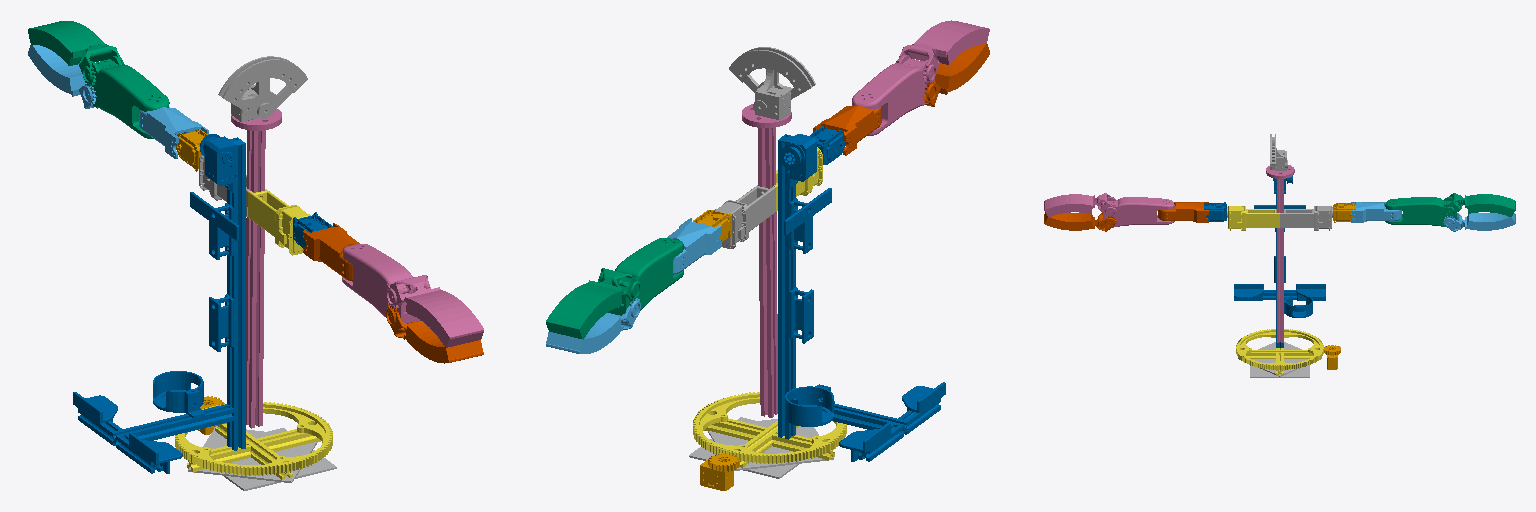
--- Facts derived from the render (not from the file) ---
3 views of the same robot in one strip: view 1: azimuth 30°, elevation 25°; view 2: azimuth 150°, elevation 25°; view 3: azimuth 270°, elevation 25° (orthographic).
Model sobit_mini with 55 links and 54 joints (15 revolute, 2 continuous, 37 fixed), rooted at base_footprint, posed all joints at 0.
Visible links, largest first — view 1: body_back_pole_link, body_big_gear_link, body_front_pole_link, right_hand_right_finger_link, head_pan_link, left_elbow_roll_link, right_elbow_roll_link, left_hand_right_finger_link, right_hand_left_finger_link, right_shoulder_fixed_link, left_hand_left_finger_link, right_shoulder_flex_link (+6 smaller); view 2: body_back_pole_link, body_front_pole_link, body_big_gear_link, head_pan_link, left_hand_right_finger_link, right_elbow_roll_link, left_elbow_roll_link, right_hand_right_finger_link, left_shoulder_fixed_link, left_hand_left_finger_link, right_hand_left_finger_link, left_shoulder_flex_link (+7 smaller); view 3: body_back_pole_link, body_big_gear_link, left_elbow_roll_link, right_elbow_roll_link, body_front_pole_link, left_hand_right_finger_link, right_hand_right_finger_link, right_shoulder_fixed_link, left_shoulder_fixed_link, left_hand_left_finger_link, right_hand_left_finger_link, left_shoulder_flex_link (+1 smaller).
Boxes of the visible links, bbox=[...] form: body_back_pole_link: bbox=[73, 134, 245, 473]; body_big_gear_link: bbox=[175, 402, 332, 479]; body_front_pole_link: bbox=[231, 109, 281, 428]; right_hand_right_finger_link: bbox=[386, 275, 483, 347]; head_pan_link: bbox=[218, 56, 307, 121]; left_elbow_roll_link: bbox=[85, 56, 169, 138]; right_elbow_roll_link: bbox=[342, 244, 420, 323]; left_hand_right_finger_link: bbox=[28, 21, 123, 85]; right_hand_left_finger_link: bbox=[386, 305, 483, 363]; right_shoulder_fixed_link: bbox=[248, 189, 310, 255]; left_hand_left_finger_link: bbox=[28, 45, 96, 108]; right_shoulder_flex_link: bbox=[303, 223, 359, 281]; body_back_pole_link: bbox=[778, 134, 945, 461]; body_front_pole_link: bbox=[742, 104, 791, 417]; body_big_gear_link: bbox=[693, 392, 846, 467]; head_pan_link: bbox=[729, 47, 815, 119]; left_hand_right_finger_link: bbox=[546, 268, 640, 339]; right_elbow_roll_link: bbox=[852, 55, 934, 135]; left_elbow_roll_link: bbox=[608, 238, 683, 315]; right_hand_right_finger_link: bbox=[895, 20, 989, 83]; left_shoulder_fixed_link: bbox=[714, 185, 775, 248]; left_hand_left_finger_link: bbox=[546, 298, 640, 353]; right_hand_left_finger_link: bbox=[923, 43, 989, 106]; left_shoulder_flex_link: bbox=[667, 218, 721, 274]; body_back_pole_link: bbox=[1234, 176, 1325, 347]; body_big_gear_link: bbox=[1236, 329, 1323, 375]; left_elbow_roll_link: bbox=[1385, 197, 1456, 227]; right_elbow_roll_link: bbox=[1103, 197, 1174, 226]; body_front_pole_link: bbox=[1266, 165, 1294, 342]; left_hand_right_finger_link: bbox=[1443, 193, 1515, 216]; right_hand_right_finger_link: bbox=[1044, 193, 1116, 217]; right_shoulder_fixed_link: bbox=[1227, 206, 1279, 230]; left_shoulder_fixed_link: bbox=[1280, 206, 1332, 230]; left_hand_left_finger_link: bbox=[1443, 212, 1515, 231]; right_hand_left_finger_link: bbox=[1044, 212, 1116, 231]; left_shoulder_flex_link: bbox=[1351, 202, 1401, 222].
Size in the robot's own frame: 0.358 by 1.26 by 0.6751 metres.
17 mesh visuals loaded from 21 distinct referenced files (12 Collada DAE); not drawn: 18 (reference not matched to a file when rendering).

The robot description file, URDF, robot "sobit_mini":
<?xml version="1.0" ?>
<!-- =================================================================================== -->
<!-- |    This document was autogenerated by xacro from sobit_mini.urdf.xacro          | -->
<!-- |    EDITING THIS FILE BY HAND IS NOT RECOMMENDED                                 | -->
<!-- =================================================================================== -->
<robot name="sobit_mini" xmlns:controller="http://playerstage.sourceforge.net/gazebo/xmlschema/#controller" xmlns:interface="http://playerstage.sourceforge.net/gazebo/xmlschema/#interface" xmlns:sensor="http://playerstage.sourceforge.net/gazebo/xmlschema/#sensor" xmlns:xacro="http://www.ros.org/wiki.xacro">
  <material name="wheel">
    <color rgba="0.2 0.2 0.2 1.0"/>
  </material>
  <material name="black">
    <color rgba="0.1 0.1 0.1 1.0"/>
  </material>
  <material name="white">
    <color rgba="1.0 1.0 1.0 1.0"/>
  </material>
  <material name="silver">
    <color rgba="0.741 0.752 0.760 1.0"/>
  </material>
  <material name="red">
    <color rgba="1.0 0.0 0.0 1.0"/>
  </material>
  <material name="green">
    <color rgba="0.0 1.0 0.0 1.0"/>
  </material>
  <material name="blue">
    <color rgba="0.0 0.0 1.0 1.0"/>
  </material>
  <!-- 
    These properties must be observed by any machine
    that wants to be defined as a turtlebot. Refer
    to the REP for more details.
    
    http://www.ros.org/reps/rep-0119.html
   -->
  <link name="base_footprint"/>
  <!--
       Base link is set at the bottom of the base mould.
       This is done to be compatible with the way base link
       was configured for turtlebot 1. Refer to
       https://github.com/turtlebot/turtlebot/issues/40
       To put the base link at the more oft used wheel
       axis, set the z-distance from the base_footprint
       to 0.352.
      -->
  <joint name="base_joint" type="fixed">
    <origin rpy="0 0 0" xyz="0 0 0.0102"/>
    <parent link="base_footprint"/>
    <child link="base_link"/>
  </joint>
  <link name="base_link">
    <visual>
      <geometry>
        <!-- new mesh -->
        <mesh filename="package://kobuki_description/meshes/main_body.dae"/>
      </geometry>
      <origin rpy="0 0 0" xyz="0.001 0 0.05199"/>
    </visual>
    <collision name="base">
      <geometry>
        <cylinder length="0.10938" radius="0.178"/>
      </geometry>
      <origin rpy="0 0 0" xyz="0.0 0 0.05949"/>
    </collision>
    <inertial>
      <!-- COM experimentally determined -->
      <origin xyz="0.01 0 0"/>
      <mass value="2.4"/>
      <!-- 2.4/2.6 kg for small/big battery pack -->
      <!-- Kobuki's inertia tensor is approximated by a cylinder with homogeneous mass distribution
             More details: http://en.wikipedia.org/wiki/List_of_moment_of_inertia_tensors
             m = 2.4 kg; h = 0.09 m; r = 0.175 m
             ixx = 1/12 * m * (3 * r^2 + h^2)
             iyy = 1/12 * m * (3 * r^2 + h^2)
             izz = 1/2 * m * r^2
          -->
      <inertia ixx="0.019995" ixy="0.0" ixz="0.0" iyy="0.019995" iyz="0.0" izz="0.03675"/>
    </inertial>
  </link>
  <joint name="wheel_left_joint" type="continuous">
    <parent link="base_link"/>
    <child link="wheel_left_link"/>
    <origin rpy="-1.57079632679 0 0" xyz="0.00 0.115 0.0250"/>
    <axis xyz="0 0 1"/>
  </joint>
  <link name="wheel_left_link">
    <visual>
      <geometry>
        <mesh filename="package://kobuki_description/meshes/wheel.dae"/>
      </geometry>
      <origin rpy="0 0 0" xyz="0 0 0"/>
    </visual>
    <collision>
      <geometry>
        <cylinder length="0.0206" radius="0.0352"/>
      </geometry>
      <origin rpy="0 0 0" xyz="0 0 0"/>
    </collision>
    <inertial>
      <mass value="0.01"/>
      <origin xyz="0 0 0"/>
      <inertia ixx="0.001" ixy="0.0" ixz="0.0" iyy="0.001" iyz="0.0" izz="0.001"/>
    </inertial>
  </link>
  <joint name="wheel_right_joint" type="continuous">
    <parent link="base_link"/>
    <child link="wheel_right_link"/>
    <origin rpy="-1.57079632679 0 0" xyz="0.00 -0.115 0.0250"/>
    <axis xyz="0 0 1"/>
  </joint>
  <link name="wheel_right_link">
    <visual>
      <geometry>
        <mesh filename="package://kobuki_description/meshes/wheel.dae"/>
      </geometry>
      <origin rpy="0 0 0" xyz="0 0 0"/>
    </visual>
    <collision>
      <geometry>
        <cylinder length="0.0206" radius="0.0350"/>
      </geometry>
      <origin rpy="0 0 0" xyz="0 0 0"/>
    </collision>
    <inertial>
      <mass value="0.01"/>
      <origin xyz="0 0 0"/>
      <inertia ixx="0.001" ixy="0.0" ixz="0.0" iyy="0.001" iyz="0.0" izz="0.001"/>
    </inertial>
  </link>
  <joint name="caster_front_joint" type="fixed">
    <parent link="base_link"/>
    <child link="caster_front_link"/>
    <origin rpy="-1.57079632679 0 0" xyz="0.115 0.0 0.007"/>
  </joint>
  <link name="caster_front_link">
    <collision>
      <geometry>
        <cylinder length="0.0176" radius="0.017"/>
      </geometry>
      <origin rpy="0 0 0" xyz="0 0 0"/>
    </collision>
    <inertial>
      <mass value="0.01"/>
      <origin xyz="0 0 0"/>
      <inertia ixx="0.001" ixy="0.0" ixz="0.0" iyy="0.001" iyz="0.0" izz="0.001"/>
    </inertial>
  </link>
  <joint name="caster_back_joint" type="fixed">
    <parent link="base_link"/>
    <child link="caster_back_link"/>
    <origin rpy="-1.57079632679 0 0" xyz="-0.135 0.0 0.009"/>
  </joint>
  <link name="caster_back_link">
    <collision>
      <geometry>
        <cylinder length="0.0176" radius="0.017"/>
      </geometry>
      <origin rpy="0 0 0" xyz="0 0 0"/>
    </collision>
    <inertial>
      <mass value="0.01"/>
      <origin xyz="0 0 0"/>
      <inertia ixx="0.001" ixy="0.0" ixz="0.0" iyy="0.001" iyz="0.0" izz="0.001"/>
    </inertial>
  </link>
  <!-- Kobuki's sensors -->
  <joint name="gyro_joint" type="fixed">
    <axis xyz="0 1 0"/>
    <origin rpy="0 0 0" xyz="0.056 0.062 0.0202"/>
    <parent link="base_link"/>
    <child link="gyro_link"/>
  </joint>
  <link name="gyro_link">
    <inertial>
      <mass value="0.001"/>
      <origin rpy="0 0 0" xyz="0 0 0"/>
      <inertia ixx="0.0001" ixy="0" ixz="0" iyy="0.000001" iyz="0" izz="0.0001"/>
    </inertial>
  </link>
  <joint name="cliff_sensor_left_joint" type="fixed">
    <origin rpy="0 1.57079632679 0" xyz="0.08734 0.13601 0.0214"/>
    <parent link="base_link"/>
    <child link="cliff_sensor_left_link"/>
  </joint>
  <link name="cliff_sensor_left_link">
    <inertial>
      <mass value="0.0001"/>
      <origin xyz="0 0 0"/>
      <inertia ixx="0.0001" ixy="0.0" ixz="0.0" iyy="0.0001" iyz="0.0" izz="0.0001"/>
    </inertial>
  </link>
  <joint name="cliff_sensor_right_joint" type="fixed">
    <origin rpy="0 1.57079632679 0" xyz="0.085 -0.13601 0.0214"/>
    <parent link="base_link"/>
    <child link="cliff_sensor_right_link"/>
  </joint>
  <link name="cliff_sensor_right_link">
    <inertial>
      <mass value="0.0001"/>
      <origin xyz="0 0 0"/>
      <inertia ixx="0.0001" ixy="0.0" ixz="0.0" iyy="0.0001" iyz="0.0" izz="0.0001"/>
    </inertial>
  </link>
  <joint name="cliff_sensor_front_joint" type="fixed">
    <origin rpy="0 1.57079632679 0" xyz="0.156 0.00 0.0214"/>
    <parent link="base_link"/>
    <child link="cliff_sensor_front_link"/>
  </joint>
  <link name="cliff_sensor_front_link">
    <inertial>
      <mass value="0.0001"/>
      <origin xyz="0 0 0"/>
      <inertia ixx="0.0001" ixy="0.0" ixz="0.0" iyy="0.0001" iyz="0.0" izz="0.0001"/>
    </inertial>
  </link>
  <joint name="pole_bottom_0_joint" type="fixed">
    <origin rpy="0 0 0" xyz="0.12 0.082 0.1028"/>
    <parent link="base_link"/>
    <child link="pole_bottom_0_link"/>
  </joint>
  <link name="pole_bottom_0_link">
    <visual>
      <origin rpy="0 0 0" xyz="0 0 0"/>
      <geometry>
        <mesh filename="package://turtlebot_description/meshes/stacks/hexagons/pole_bottom.dae"/>
      </geometry>
    </visual>
    <collision>
      <origin rpy="0 0 0" xyz="0 0 0"/>
      <geometry>
        <cylinder length="0.0492" radius="0.006"/>
      </geometry>
    </collision>
    <inertial>
      <mass value="0.008"/>
      <origin rpy="0 0 0" xyz="0 0 0"/>
      <inertia ixx="0.000001686" ixy="0.0" ixz="0.0" iyy="0.000001686" iyz="0.0" izz="0.000000144"/>
    </inertial>
  </link>
  <joint name="pole_bottom_1_joint" type="fixed">
    <origin rpy="0 0 0" xyz="0.055 0.12 0.1028"/>
    <parent link="base_link"/>
    <child link="pole_bottom_1_link"/>
  </joint>
  <link name="pole_bottom_1_link">
    <visual>
      <origin rpy="0 0 0" xyz="0 0 0"/>
      <geometry>
        <mesh filename="package://turtlebot_description/meshes/stacks/hexagons/pole_bottom.dae"/>
      </geometry>
    </visual>
    <collision>
      <origin rpy="0 0 0" xyz="0 0 0"/>
      <geometry>
        <cylinder length="0.0492" radius="0.006"/>
      </geometry>
    </collision>
    <inertial>
      <mass value="0.008"/>
      <origin rpy="0 0 0" xyz="0 0 0"/>
      <inertia ixx="0.000001686" ixy="0.0" ixz="0.0" iyy="0.000001686" iyz="0.0" izz="0.000000144"/>
    </inertial>
  </link>
  <joint name="pole_bottom_2_joint" type="fixed">
    <origin rpy="0 0 0" xyz="-0.055 0.12 0.1028"/>
    <parent link="base_link"/>
    <child link="pole_bottom_2_link"/>
  </joint>
  <link name="pole_bottom_2_link">
    <visual>
      <origin rpy="0 0 0" xyz="0 0 0"/>
      <geometry>
        <mesh filename="package://turtlebot_description/meshes/stacks/hexagons/pole_bottom.dae"/>
      </geometry>
    </visual>
    <collision>
      <origin rpy="0 0 0" xyz="0 0 0"/>
      <geometry>
        <cylinder length="0.0492" radius="0.006"/>
      </geometry>
    </collision>
    <inertial>
      <mass value="0.008"/>
      <origin rpy="0 0 0" xyz="0 0 0"/>
      <inertia ixx="0.000001686" ixy="0.0" ixz="0.0" iyy="0.000001686" iyz="0.0" izz="0.000000144"/>
    </inertial>
  </link>
  <joint name="pole_bottom_3_joint" type="fixed">
    <origin rpy="0 0 0" xyz="0.12 -0.082 0.1028"/>
    <parent link="base_link"/>
    <child link="pole_bottom_3_link"/>
  </joint>
  <link name="pole_bottom_3_link">
    <visual>
      <origin rpy="0 0 0" xyz="0 0 0"/>
      <geometry>
        <mesh filename="package://turtlebot_description/meshes/stacks/hexagons/pole_bottom.dae"/>
      </geometry>
    </visual>
    <collision>
      <origin rpy="0 0 0" xyz="0 0 0"/>
      <geometry>
        <cylinder length="0.0492" radius="0.006"/>
      </geometry>
    </collision>
    <inertial>
      <mass value="0.008"/>
      <origin rpy="0 0 0" xyz="0 0 0"/>
      <inertia ixx="0.000001686" ixy="0.0" ixz="0.0" iyy="0.000001686" iyz="0.0" izz="0.000000144"/>
    </inertial>
  </link>
  <joint name="pole_bottom_4_joint" type="fixed">
    <origin rpy="0 0 0" xyz="0.055 -0.12 0.1028"/>
    <parent link="base_link"/>
    <child link="pole_bottom_4_link"/>
  </joint>
  <link name="pole_bottom_4_link">
    <visual>
      <origin rpy="0 0 0" xyz="0 0 0"/>
      <geometry>
        <mesh filename="package://turtlebot_description/meshes/stacks/hexagons/pole_bottom.dae"/>
      </geometry>
    </visual>
    <collision>
      <origin rpy="0 0 0" xyz="0 0 0"/>
      <geometry>
        <cylinder length="0.0492" radius="0.006"/>
      </geometry>
    </collision>
    <inertial>
      <mass value="0.008"/>
      <origin rpy="0 0 0" xyz="0 0 0"/>
      <inertia ixx="0.000001686" ixy="0.0" ixz="0.0" iyy="0.000001686" iyz="0.0" izz="0.000000144"/>
    </inertial>
  </link>
  <joint name="pole_bottom_5_joint" type="fixed">
    <origin rpy="0 0 0" xyz="-0.055 -0.12 0.1028"/>
    <parent link="base_link"/>
    <child link="pole_bottom_5_link"/>
  </joint>
  <link name="pole_bottom_5_link">
    <visual>
      <origin rpy="0 0 0" xyz="0 0 0"/>
      <geometry>
        <mesh filename="package://turtlebot_description/meshes/stacks/hexagons/pole_bottom.dae"/>
      </geometry>
    </visual>
    <collision>
      <origin rpy="0 0 0" xyz="0 0 0"/>
      <geometry>
        <cylinder length="0.0492" radius="0.006"/>
      </geometry>
    </collision>
    <inertial>
      <mass value="0.008"/>
      <origin rpy="0 0 0" xyz="0 0 0"/>
      <inertia ixx="0.000001686" ixy="0.0" ixz="0.0" iyy="0.000001686" iyz="0.0" izz="0.000000144"/>
    </inertial>
  </link>
  <joint name="plate_bottom_joint" type="fixed">
    <origin rpy="0 0 0" xyz="0.02364 0.0 0.1306"/>
    <parent link="base_link"/>
    <child link="plate_bottom_link"/>
  </joint>
  <link name="plate_bottom_link">
    <visual>
      <origin rpy="0 0 0" xyz="0 0 0"/>
      <geometry>
        <mesh filename="package://turtlebot_description/meshes/stacks/hexagons/plate_bottom.dae"/>
      </geometry>
    </visual>
    <collision>
      <origin rpy="0 0 0" xyz="-0.02364 0 0"/>
      <geometry>
        <cylinder length="0.006" radius="0.170"/>
      </geometry>
    </collision>
    <inertial>
      <mass value="0.520"/>
      <origin xyz="0 0 0"/>
      <inertia ixx="0.003328" ixy="0.0" ixz="0.0" iyy="0.003328" iyz="0.0" izz="0.006656"/>
    </inertial>
  </link>
  <joint name="pole_kinect_0_joint" type="fixed">
    <origin rpy="0 0 0" xyz="0.0381 0.1505 0.1735"/>
    <parent link="base_link"/>
    <child link="pole_kinect_0_link"/>
  </joint>
  <link name="pole_kinect_0_link">
    <visual>
      <origin rpy="0 0 0" xyz="0 0 0.0025"/>
      <geometry>
        <mesh filename="package://turtlebot_description/meshes/sensors/sensor_pole.dae"/>
      </geometry>
    </visual>
    <collision>
      <origin rpy="0 0 0" xyz="0 0 0"/>
      <geometry>
        <cylinder length="0.0936" radius="0.006"/>
      </geometry>
    </collision>
    <inertial>
      <mass value="0.020"/>
      <origin xyz="0 0 0"/>
      <inertia ixx="0.000014782" ixy="0.0" ixz="0.0" iyy="0.000014782" iyz="0.0" izz="0.000000360"/>
    </inertial>
  </link>
  <joint name="pole_kinect_1_joint" type="fixed">
    <origin rpy="0 0 0" xyz="0.0381 -0.1505 0.1735"/>
    <parent link="base_link"/>
    <child link="pole_kinect_1_link"/>
  </joint>
  <link name="pole_kinect_1_link">
    <visual>
      <origin rpy="0 0 0" xyz="0 0 0.0025"/>
      <geometry>
        <mesh filename="package://turtlebot_description/meshes/sensors/sensor_pole.dae"/>
      </geometry>
    </visual>
    <collision>
      <origin rpy="0 0 0" xyz="0 0 0"/>
      <geometry>
        <cylinder length="0.0936" radius="0.006"/>
      </geometry>
    </collision>
    <inertial>
      <mass value="0.020"/>
      <origin xyz="0 0 0"/>
      <inertia ixx="0.000014782" ixy="0.0" ixz="0.0" iyy="0.000014782" iyz="0.0" izz="0.000000360"/>
    </inertial>
  </link>
  <joint name="pole_kinect_2_joint" type="fixed">
    <origin rpy="0 0 0" xyz="-0.0381 0.1505 0.1735"/>
    <parent link="base_link"/>
    <child link="pole_kinect_2_link"/>
  </joint>
  <link name="pole_kinect_2_link">
    <visual>
      <origin rpy="0 0 0" xyz="0 0 0.0025"/>
      <geometry>
        <mesh filename="package://turtlebot_description/meshes/sensors/sensor_pole.dae"/>
      </geometry>
    </visual>
    <collision>
      <origin rpy="0 0 0" xyz="0 0 0"/>
      <geometry>
        <cylinder length="0.0936" radius="0.006"/>
      </geometry>
    </collision>
    <inertial>
      <mass value="0.020"/>
      <origin xyz="0 0 0"/>
      <inertia ixx="0.000014782" ixy="0.0" ixz="0.0" iyy="0.000014782" iyz="0.0" izz="0.000000360"/>
    </inertial>
  </link>
  <joint name="pole_kinect_3_joint" type="fixed">
    <origin rpy="0 0 0" xyz="-0.0381 -0.1505 0.1735"/>
    <parent link="base_link"/>
    <child link="pole_kinect_3_link"/>
  </joint>
  <link name="pole_kinect_3_link">
    <visual>
      <origin rpy="0 0 0" xyz="0 0 0.0025"/>
      <geometry>
        <mesh filename="package://turtlebot_description/meshes/sensors/sensor_pole.dae"/>
      </geometry>
    </visual>
    <collision>
      <origin rpy="0 0 0" xyz="0 0 0"/>
      <geometry>
        <cylinder length="0.0936" radius="0.006"/>
      </geometry>
    </collision>
    <inertial>
      <mass value="0.020"/>
      <origin xyz="0 0 0"/>
      <inertia ixx="0.000014782" ixy="0.0" ixz="0.0" iyy="0.000014782" iyz="0.0" izz="0.000000360"/>
    </inertial>
  </link>
  <joint name="plate_middle_joint" type="fixed">
    <origin rpy="0 0 0" xyz="-0.01364 0.0 0.222"/>
    <parent link="base_link"/>
    <child link="plate_middle_link"/>
  </joint>
  <link name="plate_middle_link">
    <visual>
      <origin rpy="0 0 0" xyz="0 0 0"/>
      <geometry>
        <mesh filename="package://turtlebot_description/meshes/stacks/hexagons/plate_top.dae"/>
      </geometry>
    </visual>
    <collision>
      <origin rpy="0 0 0" xyz="0.01364 0.0 0.0"/>
      <geometry>
        <cylinder length="0.006" radius="0.170"/>
      </geometry>
    </collision>
    <inertial>
      <mass value="0.520"/>
      <origin xyz="0 0 0"/>
      <inertia ixx="0.003328" ixy="0.0" ixz="0.0" iyy="0.003328" iyz="0.0" izz="0.006656"/>
    </inertial>
  </link>
  <joint name="laser" type="fixed">
    <origin rpy="0 0 0" xyz="0.205 0.0 0.01"/>
    <parent link="base_link"/>
    <child link="base_laser_link"/>
  </joint>
  <link name="base_laser_link">
    <visual>
      <geometry>
        <mesh filename="package://sobit_mini_description/meshes/UST-20LX.dae"/>
      </geometry>
      <material name="Black"/>
    </visual>
    <inertial>
      <mass value="0.000001"/>
      <origin xyz="0 0 0"/>
      <inertia ixx="0.0001" ixy="0.0" ixz="0.0" iyy="0.0001" iyz="0.0" izz="0.0001"/>
    </inertial>
  </link>
  <joint name="body_square_bottom_joint" type="fixed">
    <parent link="plate_middle_link"/>
    <child link="body_square_bottom_link"/>
    <origin rpy="0 0 0" xyz="0.017 0 0.0"/>
    <axis xyz="0 0 1"/>
  </joint>
  <link name="body_square_bottom_link">
    <visual>
      <origin rpy="0 0 0" xyz="0 0 0.003"/>
      <geometry>
        <box size="0.16 0.16 0.003"/>
      </geometry>
      <material name="silver"/>
    </visual>
    <inertial>
      <origin rpy="0 0 0" xyz="0 0 0.0"/>
      <mass value="1"/>
      <inertia ixx="1.0" ixy="0.0" ixz="0.0" iyy="1.0" iyz="0.0" izz="1.0"/>
    </inertial>
  </link>
  <joint name="body_small_gear_joint" type="fixed">
    <parent link="plate_middle_link"/>
    <child link="body_small_gear_link"/>
    <origin rpy="0 0 0" xyz="0.0 0.14 0.0"/>
    <axis xyz="0 0 1"/>
  </joint>
  <link name="body_small_gear_link">
    <visual>
      <origin rpy="1.57079632679 0 1.57079632679" xyz="0 0 0.034"/>
      <geometry>
        <mesh filename="package://sobit_mini_description/meshes/sobit_mini_small_gear.dae"/>
      </geometry>
    </visual>
    <inertial>
      <origin rpy="0 0 0" xyz="0 0 0.0"/>
      <mass value="1"/>
      <inertia ixx="1.0" ixy="0.0" ixz="0.0" iyy="1.0" iyz="0.0" izz="1.0"/>
    </inertial>
  </link>
  <joint name="body_roll_joint" type="revolute">
    <parent link="plate_middle_link"/>
    <child link="body_roll_link"/>
    <origin rpy="0 0 0" xyz="0 0 0.0"/>
    <axis xyz="0 0 1"/>
    <limit effort="30" lower="-1.57079632679" upper="1.57079632679" velocity="1.57079632679"/>
  </joint>
  <link name="body_roll_link"/>
  <joint name="body_square_top_joint" type="fixed">
    <parent link="body_roll_link"/>
    <child link="body_square_top_link"/>
    <origin rpy="0 0 0.785398163397" xyz="0.0 0 0.0135"/>
    <axis xyz="0 0 1"/>
  </joint>
  <link name="body_square_top_link">
    <visual>
      <origin rpy="0 0 0" xyz="0 0 0.0015"/>
      <geometry>
        <box size="0.16 0.16 0.003"/>
      </geometry>
      <material name="silver"/>
    </visual>
    <inertial>
      <origin rpy="0 0 0" xyz="0 0 0.0"/>
      <mass value="1"/>
      <inertia ixx="1.0" ixy="0.0" ixz="0.0" iyy="1.0" iyz="0.0" izz="1.0"/>
    </inertial>
  </link>
  <joint name="body_big_gear_joint" type="fixed">
    <parent link="body_roll_link"/>
    <child link="body_big_gear_link"/>
    <origin rpy="0 0 0" xyz="0 0 0.015"/>
    <axis xyz="0 0 1"/>
  </joint>
  <link name="body_big_gear_link">
    <visual>
      <origin rpy="1.57079632679 0 1.57079632679" xyz="0 0 0.02"/>
      <geometry>
        <mesh filename="package://sobit_mini_description/meshes/sobit_mini_big_gear.dae"/>
      </geometry>
    </visual>
    <inertial>
      <origin rpy="0 0 0" xyz="0 0 0.0"/>
      <mass value="1"/>
      <inertia ixx="1.0" ixy="0.0" ixz="0.0" iyy="1.0" iyz="0.0" izz="1.0"/>
    </inertial>
  </link>
  <joint name="body_back_pole_joint" type="fixed">
    <parent link="body_big_gear_link"/>
    <child link="body_back_pole_link"/>
    <origin rpy="0 0 0" xyz="-0.03 0 0.019"/>
    <axis xyz="0 0 1"/>
  </joint>
  <link name="body_back_pole_link">
    <visual>
      <origin rpy="1.57079632679 0 1.57079632679" xyz="-0.01 -0.01 0.0"/>
      <geometry>
        <mesh filename="package://sobit_mini_description/meshes/sobit_mini_center_back.dae"/>
      </geometry>
    </visual>
    <inertial>
      <origin rpy="0 0 0" xyz="0 0 0.0"/>
      <mass value="1"/>
      <inertia ixx="1.0" ixy="0.0" ixz="0.0" iyy="1.0" iyz="0.0" izz="1.0"/>
    </inertial>
  </link>
  <joint name="body_lift_joint" type="fixed">
    <parent link="body_back_pole_link"/>
    <child link="body_lift_link"/>
    <origin rpy="0 0.01 0" xyz="0.03 0.0 0.03"/>
    <axis xyz="0 0 1"/>
    <limit effort="30" lower="0" upper="0.17" velocity="0.2"/>
    <dynamics damping="1.0"/>
  </joint>
  <link name="body_lift_link"/>
  <joint name="body_front_pole_joint" type="fixed">
    <parent link="body_lift_link"/>
    <child link="body_front_pole_link"/>
    <origin rpy="0 0 0" xyz="0.00 0 0.00"/>
    <axis xyz="0 0 1"/>
  </joint>
  <link name="body_front_pole_link">
    <visual>
      <origin rpy="1.57079632679 0 1.57079632679" xyz="0.0 0.015 0.513"/>
      <geometry>
        <mesh filename="package://sobit_mini_description/meshes/sobit_mini_center_front.dae"/>
      </geometry>
    </visual>
    <inertial>
      <origin rpy="0 0 0" xyz="0 0 0.0"/>
      <mass value="1"/>
      <inertia ixx="1.0" ixy="0.0" ixz="0.0" iyy="1.0" iyz="0.0" izz="1.0"/>
    </inertial>
  </link>
  <transmission name="body_roll_joint_transmission">
    <type>transmission_interface/SimpleTransmission</type>
    <joint name="body_roll_joint">
      <hardwareInterface>PositionJointInterface</hardwareInterface>
    </joint>
    <actuator name="body_roll_joint_actuator">
      <hardwareInterface>PositionJointInterface</hardwareInterface>
      <mechanicalReduction>1</mechanicalReduction>
    </actuator>
  </transmission>
  <joint name="left_shoulder_fixed_joint" type="fixed">
    <parent link="body_lift_link"/>
    <child link="left_shoulder_fixed_link"/>
    <origin rpy="0 0 0" xyz="0.0 0 0.343"/>
    <axis xyz="0 0 1"/>
    <limit effort="30" lower="-0.1" upper="0.1" velocity="1.571"/>
  </joint>
  <link name="left_shoulder_fixed_link">
    <visual>
      <origin rpy="1.57079632679 0 3.14159265359" xyz="0.0199 0.09019 -0.0089"/>
      <geometry>
        <mesh filename="package://sobit_mini_description/meshes/shoulder1.dae"/>
      </geometry>
    </visual>
    <inertial>
      <origin rpy="0 0 0" xyz="0.0 0 0.0"/>
      <mass value="0.08"/>
      <inertia ixx="1.0" ixy="0.0" ixz="0.0" iyy="1.0" iyz="0.0" izz="1.0"/>
    </inertial>
  </link>
  <joint name="left_shoulder_roll_joint" type="revolute">
    <parent link="left_shoulder_fixed_link"/>
    <child link="left_shoulder_roll_link"/>
    <origin rpy="0 0 0" xyz="0.0 0.14146 0.03941"/>
    <axis xyz="0 -1 0"/>
    <limit effort="30" lower="-1.57079632679" upper="1.57079632679" velocity="3.14159265359"/>
  </joint>
  <link name="left_shoulder_roll_link">
    <collision>
      <origin rpy="0 0 0" xyz="0.0 0 0.0"/>
      <geometry>
        <box size="0.068 0.05 0.04"/>
      </geometry>
    </collision>
    <visual>
      <origin rpy="0 1.57079632679 0" xyz="0.0 0.0509 0.0"/>
      <geometry>
        <mesh filename="package://sobit_mini_description/meshes/sobit_mini_shoulder2.dae"/>
      </geometry>
    </visual>
    <inertial>
      <origin rpy="0 0 0" xyz="0.034 0 0.0"/>
      <mass value="0.08"/>
      <inertia ixx="1.0" ixy="0.0" ixz="0.0" iyy="1.0" iyz="0.0" izz="1.0"/>
    </inertial>
  </link>
  <joint name="left_shoulder_flex_joint" type="revolute">
    <parent link="left_shoulder_roll_link"/>
    <child link="left_shoulder_flex_link"/>
    <origin rpy="0 0 0" xyz="0 0.0511 0.0"/>
    <axis xyz="1 0 0"/>
    <limit effort="30" lower="-1.57079632679" upper="1.57079632679" velocity="1.57079632679"/>
  </joint>
  <link name="left_shoulder_flex_link">
    <collision>
      <origin rpy="0 0 0" xyz="0.0 0 -0.095"/>
      <geometry>
        <box size="0.035 0.05 0.19"/>
      </geometry>
    </collision>
    <visual>
      <origin rpy="-1.57079632679 -1.57079632679 0" xyz="-0.0265 0.0702 -0.017"/>
      <geometry>
        <mesh filename="package://sobit_mini_description/meshes/arm1_left.dae"/>
      </geometry>
    </visual>
    <inertial>
      <origin rpy="0 0 0" xyz="0 0 -0.095"/>
      <mass value="0.08"/>
      <inertia ixx="1.0" ixy="0.0" ixz="0.0" iyy="1.0" iyz="0.0" izz="1.0"/>
    </inertial>
  </link>
  <joint name="left_elbow_roll_joint" type="revolute">
    <parent link="left_shoulder_flex_link"/>
    <child link="left_elbow_roll_link"/>
    <origin rpy="0 0 0" xyz="-0.0005 0.1105 0"/>
    <axis xyz="0 0 -1"/>
    <limit effort="30" lower="-1.57079632679" upper="1.57079632679" velocity="1.57079632679"/>
  </joint>
  <link name="left_elbow_roll_link">
    <collision>
      <origin rpy="0 0 0" xyz="0.0 0 -0.035"/>
      <geometry>
        <box size="0.06 0.04 0.07"/>
      </geometry>
    </collision>
    <visual>
      <origin rpy="-1.57079632679 -1.57079632679 0" xyz="-0.0260  -0.0405 -0.0172"/>
      <geometry>
        <mesh filename="package://sobit_mini_description/meshes/arm2_left.dae"/>
      </geometry>
    </visual>
    <inertial>
      <origin rpy="0 0 0" xyz="0 0 -0.035"/>
      <mass value="0.08"/>
      <inertia ixx="1.0" ixy="0.0" ixz="0.0" iyy="1.0" iyz="0.0" izz="1.0"/>
    </inertial>
  </link>
  <transmission name="left_shoulder_flex_joint_transmission">
    <type>transmission_interface/SimpleTransmission</type>
    <joint name="left_shoulder_flex_joint">
      <hardwareInterface>PositionJointInterface</hardwareInterface>
    </joint>
    <actuator name="left_shoulder_flex_joint_actuator">
      <hardwareInterface>PositionJointInterface</hardwareInterface>
      <mechanicalReduction>1</mechanicalReduction>
    </actuator>
  </transmission>
  <transmission name="left_shoulder_roll_joint_transmission">
    <type>transmission_interface/SimpleTransmission</type>
    <joint name="left_shoulder_roll_joint">
      <hardwareInterface>PositionJointInterface</hardwareInterface>
    </joint>
    <actuator name="left_shoulder_roll_joint_actuator">
      <hardwareInterface>PositionJointInterface</hardwareInterface>
      <mechanicalReduction>1</mechanicalReduction>
    </actuator>
  </transmission>
  <transmission name="left_wrist_flex_joint_transmission">
    <type>transmission_interface/SimpleTransmission</type>
    <joint name="left_wrist_flex_joint">
      <hardwareInterface>PositionJointInterface</hardwareInterface>
    </joint>
    <actuator name="left_wrist_flex_joint_actuator">
      <hardwareInterface>PositionJointInterface</hardwareInterface>
      <mechanicalReduction>1</mechanicalReduction>
    </actuator>
  </transmission>
  <joint name="right_shoulder_fixed_joint" type="fixed">
    <parent link="body_lift_link"/>
    <child link="right_shoulder_fixed_link"/>
    <origin rpy="0 0 0" xyz="0.0 0 0.343"/>
    <axis xyz="0 0 1"/>
    <limit effort="30" lower="-0.1" upper="0.1" velocity="1.571"/>
  </joint>
  <link name="right_shoulder_fixed_link">
    <collision>
      <origin rpy="0 0 0" xyz="0 0 0.0"/>
      <geometry>
        <box size="0.105 0.03 0.055"/>
      </geometry>
    </collision>
    <visual>
      <origin rpy="1.57079632679 0 0" xyz="-0.0199 -0.09019 -0.0089"/>
      <geometry>
        <mesh filename="package://sobit_mini_description/meshes/shoulder1.dae"/>
      </geometry>
    </visual>
    <inertial>
      <origin rpy="0 0 0" xyz="-0.0525 0 0.0"/>
      <mass value="0.08"/>
      <inertia ixx="1.0" ixy="0.0" ixz="0.0" iyy="1.0" iyz="0.0" izz="1.0"/>
    </inertial>
  </link>
  <joint name="right_shoulder_roll_joint" type="revolute">
    <parent link="right_shoulder_fixed_link"/>
    <child link="right_shoulder_roll_link"/>
    <origin rpy="0 0 0" xyz="0.0 -0.14146 0.03941"/>
    <axis xyz="0 -1 0"/>
    <limit effort="30" lower="-1.57079632679" upper="1.57079632679" velocity="1.57079632679"/>
  </joint>
  <link name="right_shoulder_roll_link">
    <collision>
      <origin rpy="0 0 0" xyz="-0.034 0 0.0"/>
      <geometry>
        <box size="0.068 0.05 0.04"/>
      </geometry>
    </collision>
    <visual>
      <origin rpy="0 -1.57079632679 3.14159265359" xyz="0.0 -0.0509 0.0"/>
      <geometry>
        <mesh filename="package://sobit_mini_description/meshes/sobit_mini_shoulder2.dae"/>
      </geometry>
    </visual>
    <inertial>
      <origin rpy="0 0 0" xyz="-0.034 0 0.0"/>
      <mass value="0.08"/>
      <inertia ixx="1.0" ixy="0.0" ixz="0.0" iyy="1.0" iyz="0.0" izz="1.0"/>
    </inertial>
  </link>
  <joint name="right_shoulder_flex_joint" type="revolute">
    <parent link="right_shoulder_roll_link"/>
    <child link="right_shoulder_flex_link"/>
    <origin rpy="0 0 0" xyz="0 -0.0511 0.0"/>
    <axis xyz="-1 0 0"/>
    <limit effort="30" lower="-1.57079632679" upper="1.57079632679" velocity="1.57079632679"/>
  </joint>
  <link name="right_shoulder_flex_link">
    <collision>
      <origin rpy="0 0 0" xyz="0.0 0 -0.095"/>
      <geometry>
        <box size="0.035 0.05 0.19"/>
      </geometry>
    </collision>
    <visual>
      <origin rpy="3.14159265359 1.57079632679 1.57079632679" xyz="-0.0265 -0.0702 -0.06227"/>
      <geometry>
        <mesh filename="package://sobit_mini_description/meshes/arm1_right.dae"/>
      </geometry>
    </visual>
    <inertial>
      <origin rpy="0 0 0" xyz="0 0 -0.095"/>
      <mass value="0.08"/>
      <inertia ixx="1.0" ixy="0.0" ixz="0.0" iyy="1.0" iyz="0.0" izz="1.0"/>
    </inertial>
  </link>
  <joint name="right_elbow_roll_joint" type="revolute">
    <parent link="right_shoulder_flex_link"/>
    <child link="right_elbow_roll_link"/>
    <origin rpy="0 0 0" xyz="-0.0005 -0.1105 0"/>
    <axis xyz="0 0 1"/>
    <limit effort="30" lower="-1.57079632679" upper="1.57079632679" velocity="1.57079632679"/>
  </joint>
  <link name="right_elbow_roll_link">
    <collision>
      <origin rpy="0 0 0" xyz="0.0 0 -0.035"/>
      <geometry>
        <box size="0.06 0.04 0.07"/>
      </geometry>
    </collision>
    <visual>
      <origin rpy="1.57079632679 1.57079632679 0" xyz="-0.0260 0.0405 -0.0624"/>
      <geometry>
        <mesh filename="package://sobit_mini_description/meshes/arm2_right.dae"/>
      </geometry>
    </visual>
    <inertial>
      <origin rpy="0 0 0" xyz="0 0 -0.035"/>
      <mass value="0.08"/>
      <inertia ixx="1.0" ixy="0.0" ixz="0.0" iyy="1.0" iyz="0.0" izz="1.0"/>
    </inertial>
  </link>
  <transmission name="right_shoulder_flex_joint_transmission">
    <type>transmission_interface/SimpleTransmission</type>
    <joint name="right_shoulder_flex_joint">
      <hardwareInterface>PositionJointInterface</hardwareInterface>
    </joint>
    <actuator name="right_shoulder_flex_joint_actuator">
      <hardwareInterface>PositionJointInterface</hardwareInterface>
      <mechanicalReduction>1</mechanicalReduction>
    </actuator>
  </transmission>
  <transmission name="right_shoulder_roll_joint_transmission">
    <type>transmission_interface/SimpleTransmission</type>
    <joint name="right_shoulder_roll_joint">
      <hardwareInterface>PositionJointInterface</hardwareInterface>
    </joint>
    <actuator name="right_shoulder_roll_joint_actuator">
      <hardwareInterface>PositionJointInterface</hardwareInterface>
      <mechanicalReduction>1</mechanicalReduction>
    </actuator>
  </transmission>
  <transmission name="right_wrist_flex_joint_transmission">
    <type>transmission_interface/SimpleTransmission</type>
    <joint name="right_wrist_flex_joint">
      <hardwareInterface>PositionJointInterface</hardwareInterface>
    </joint>
    <actuator name="right_wrist_flex_joint_actuator">
      <hardwareInterface>PositionJointInterface</hardwareInterface>
      <mechanicalReduction>1</mechanicalReduction>
    </actuator>
  </transmission>
  <joint name="left_hand_motor_dummy_joint" type="fixed">
    <parent link="left_elbow_roll_link"/>
    <child link="left_hand_motor_dummy_link"/>
    <origin rpy="1.57079632679 -1.57079632679 0" xyz="0 0.15 0"/>
    <axis xyz="0 1 0"/>
    <limit effort="1" lower="0.0" upper="1.57079632679" velocity="1"/>
  </joint>
  <link name="left_hand_motor_dummy_link"/>
  <joint name="left_hand_motor_joint" type="revolute">
    <parent link="left_hand_motor_dummy_link"/>
    <child link="left_hand_motor_link"/>
    <origin rpy="0 0 0" xyz="0 0 0"/>
    <axis xyz="0 1 0"/>
    <limit effort="1" lower="0.0" upper="1.57079632679" velocity="1"/>
  </joint>
  <link name="left_hand_motor_link"/>
  <joint name="left_hand_left_finger_joint" type="revolute">
    <parent link="left_hand_motor_dummy_link"/>
    <child link="left_hand_left_finger_link"/>
    <origin rpy="0 0 0" xyz="-0.015855 0.0 0.0"/>
    <axis xyz="0 1 0"/>
    <limit effort="1" lower="-1.0" upper="0.0" velocity="1"/>
    <mimic joint="left_hand_motor_joint" multiplier="1.0" offset="-0.1"/>
  </joint>
  <link name="left_hand_left_finger_link">
    <collision>
      <origin rpy="0 3.14159265359 3.14159265359" xyz="0 0 0"/>
      <geometry>
        <mesh filename="package://sobit_mini_description/meshes/sobit_mini_hand.dae"/>
      </geometry>
    </collision>
    <visual>
      <origin rpy="0 1.57079632679 1.57079632679" xyz="0.0164 0.0027 -0.0393"/>
      <geometry>
        <mesh filename="package://sobit_mini_description/meshes/sobit_mini_hand.dae"/>
      </geometry>
    </visual>
    <inertial>
      <origin rpy="0 3.14159265359 3.14159265359" xyz="0 0 0"/>
      <mass value="0.08"/>
      <inertia ixx="1.0" ixy="0.0" ixz="0.0" iyy="1.0" iyz="0.0" izz="1.0"/>
    </inertial>
  </link>
  <joint name="left_hand_right_finger_joint" type="revolute">
    <parent link="left_hand_motor_dummy_link"/>
    <child link="left_hand_right_finger_link"/>
    <origin rpy="0 0 0" xyz="0.015855 0.0 0.0"/>
    <axis xyz="0 1 0"/>
    <limit effort="1" lower="0.0" upper="1.0" velocity="1"/>
    <mimic joint="left_hand_motor_joint" multiplier="-1.0" offset="0.1"/>
  </joint>
  <link name="left_hand_right_finger_link">
    <collision>
      <origin rpy="0 3.14159265359 0" xyz="0 0 0"/>
      <geometry>
        <mesh filename="package://sobit_mini_description/meshes/sobit_mini_hand.dae"/>
      </geometry>
    </collision>
    <visual>
      <origin rpy="0 1.57079632679 -1.57079632679" xyz="-0.0164 -0.0027 -0.0393"/>
      <geometry>
        <mesh filename="package://sobit_mini_description/meshes/sobit_mini_hand.dae"/>
      </geometry>
    </visual>
    <inertial>
      <origin rpy="0 3.14159265359 0" xyz="0 0 0"/>
      <mass value="0.08"/>
      <inertia ixx="1.0" ixy="0.0" ixz="0.0" iyy="1.0" iyz="0.0" izz="1.0"/>
    </inertial>
  </link>
  <transmission name="left_hand_motor_joint_transmission">
    <type>transmission_interface/SimpleTransmission</type>
    <joint name="left_hand_motor_joint">
      <hardwareInterface>PositionJointInterface</hardwareInterface>
    </joint>
    <actuator name="left_hand_motor_joint_actuator">
      <hardwareInterface>PositionJointInterface</hardwareInterface>
      <mechanicalReduction>1</mechanicalReduction>
    </actuator>
  </transmission>
  <joint name="right_hand_motor_dummy_joint" type="fixed">
    <parent link="right_elbow_roll_link"/>
    <child link="right_hand_motor_dummylink"/>
    <origin rpy="-1.57079632679 1.57079632679 0" xyz="0 -0.15 0"/>
    <axis xyz="0 1 0"/>
    <limit effort="1" lower="0.0" upper="1.57079632679" velocity="1"/>
  </joint>
  <link name="right_hand_motor_dummylink"/>
  <joint name="right_hand_motor_joint" type="revolute">
    <parent link="right_hand_motor_dummylink"/>
    <child link="right_hand_motor_link"/>
    <origin rpy="0 0 0" xyz="0 0 0"/>
    <axis xyz="0 1 0"/>
    <limit effort="1" lower="0.0" upper="1.57079632679" velocity="1"/>
  </joint>
  <link name="right_hand_motor_link"/>
  <joint name="right_hand_left_finger_joint" type="revolute">
    <parent link="right_hand_motor_dummylink"/>
    <child link="right_hand_left_finger_link"/>
    <origin rpy="0 0 0" xyz="0.015855 0.0 0"/>
    <axis xyz="0 1 0"/>
    <limit effort="1" lower="-1" upper="0" velocity="1"/>
    <mimic joint="right_hand_motor_joint" multiplier="-1.0" offset="0.1"/>
  </joint>
  <link name="right_hand_left_finger_link">
    <collision>
      <origin rpy="0 3.14159265359 0" xyz="0 0 0"/>
      <geometry>
        <mesh filename="package://sobit_mini_description/meshes/sobit_mini_hand.dae"/>
      </geometry>
    </collision>
    <visual>
      <origin rpy="0 1.57079632679 -1.57079632679" xyz="-0.0164 -0.0027 -0.0393"/>
      <geometry>
        <mesh filename="package://sobit_mini_description/meshes/sobit_mini_hand.dae"/>
      </geometry>
    </visual>
    <inertial>
      <origin rpy="0 3.14159265359 0" xyz="0 0 0"/>
      <mass value="0.08"/>
      <inertia ixx="1.0" ixy="0.0" ixz="0.0" iyy="1.0" iyz="0.0" izz="1.0"/>
    </inertial>
  </link>
  <joint name="right_hand_right_finger_joint" type="revolute">
    <parent link="right_hand_motor_dummylink"/>
    <child link="right_hand_right_finger_link"/>
    <origin rpy="0 0 0" xyz="-0.015855 0.0 0"/>
    <axis xyz="0 1 0"/>
    <limit effort="1" lower="-1.0" upper="0.0" velocity="1"/>
    <mimic joint="right_hand_motor_joint" multiplier="1.0" offset="-0.1"/>
  </joint>
  <link name="right_hand_right_finger_link">
    <collision>
      <origin rpy="0 3.14159265359 3.14159265359" xyz="0 0 0"/>
      <geometry>
        <mesh filename="package://sobit_mini_description/meshes/sobit_mini_hand.dae"/>
      </geometry>
    </collision>
    <visual>
      <origin rpy="0 1.57079632679 1.57079632679" xyz="0.0164 0.0027 -0.0393"/>
      <geometry>
        <mesh filename="package://sobit_mini_description/meshes/sobit_mini_hand.dae"/>
      </geometry>
    </visual>
    <inertial>
      <origin rpy="0 3.14159265359 3.14159265359" xyz="0 0 0"/>
      <mass value="0.08"/>
      <inertia ixx="1.0" ixy="0.0" ixz="0.0" iyy="1.0" iyz="0.0" izz="1.0"/>
    </inertial>
  </link>
  <transmission name="right_hand_motor_joint_transmission">
    <type>transmission_interface/SimpleTransmission</type>
    <joint name="right_hand_motor_joint">
      <hardwareInterface>PositionJointInterface</hardwareInterface>
    </joint>
    <actuator name="right_hand_motor_joint_actuator">
      <hardwareInterface>PositionJointInterface</hardwareInterface>
      <mechanicalReduction>1</mechanicalReduction>
    </actuator>
  </transmission>
  <joint name="head_pan_joint" type="revolute">
    <parent link="body_lift_link"/>
    <child link="head_pan_link"/>
    <origin rpy="0 0 0" xyz="0 0 0.51217"/>
    <axis xyz="0 0 1"/>
    <limit effort="30" lower="-2.617" upper="2.617" velocity="1.57079632679"/>
  </joint>
  <link name="head_pan_link">
    <collision>
      <origin rpy="1.57079632679 0 0" xyz="0 0 0.0135"/>
      <geometry>
        <mesh filename="package://sobit_mini_description/meshes/sobit_mini_head_neck.dae"/>
      </geometry>
    </collision>
    <visual>
      <origin rpy="1.57079632679 0 -1.57079632679" xyz="0 -0.01437 0"/>
      <geometry>
        <mesh filename="package://sobit_mini_description/meshes/sobit_mini_head_neck.dae"/>
      </geometry>
    </visual>
    <inertial>
      <origin rpy="1.57079632679 0 0" xyz="0 0 0.0135"/>
      <mass value="0.6"/>
      <inertia ixx="1.0" ixy="0.0" ixz="0.0" iyy="1.0" iyz="0.0" izz="1.0"/>
    </inertial>
  </link>
  <joint name="head_tilt_joint" type="revolute">
    <parent link="head_pan_link"/>
    <child link="head_tilt_link"/>
    <origin rpy="0 0 0" xyz="0 0 0.01273"/>
    <axis xyz="0 1 0"/>
    <limit effort="30" lower="-1" upper="1" velocity="1.57079632679"/>
  </joint>
  <link name="head_tilt_link">
    <collision>
      <origin rpy="1.57079632679 0 0" xyz="0 0 -0.012"/>
      <geometry>
        <mesh filename="package://sobit_mini_description/meshes/sobit_mini_head_top.dae"/>
      </geometry>
    </collision>
    <visual>
      <origin rpy="1.57079632679 0 -1.57079632679" xyz="0 -0.01435 -0.0157"/>
      <geometry>
        <mesh filename="package://sobit_mini_description/meshes/sobit_mini_head_top.dae"/>
      </geometry>
    </visual>
    <inertial>
      <origin rpy="1.57079632679 0 0" xyz="0 0 -0.031"/>
      <mass value="0.3"/>
      <inertia ixx="1.0" ixy="0.0" ixz="0.0" iyy="1.0" iyz="0.0" izz="1.0"/>
    </inertial>
  </link>
  <transmission name="head_pan_joint_transmission">
    <type>transmission_interface/SimpleTransmission</type>
    <joint name="head_pan_joint">
      <hardwareInterface>PositionJointInterface</hardwareInterface>
    </joint>
    <actuator name="head_pan_joint_actuator">
      <hardwareInterface>PositionJointInterface</hardwareInterface>
      <mechanicalReduction>1</mechanicalReduction>
    </actuator>
  </transmission>
  <transmission name="head_tilt_joint_transmission">
    <type>transmission_interface/SimpleTransmission</type>
    <joint name="head_tilt_joint">
      <hardwareInterface>PositionJointInterface</hardwareInterface>
    </joint>
    <actuator name="head_tilt_joint_actuator">
      <hardwareInterface>PositionJointInterface</hardwareInterface>
      <mechanicalReduction>1</mechanicalReduction>
    </actuator>
  </transmission>
  <joint name="camera_fixed_joint" type="fixed">
    <origin rpy="0 0 0" xyz="0.0 0.0 0.165"/>
    <parent link="head_tilt_link"/>
    <child link="camera_fixed_link"/>
  </joint>
  <link name="camera_fixed_link"/>
  <joint name="camera_rgb_joint" type="fixed">
    <origin rpy="0 -0.1221 0" xyz="0.011 0.0220 0.022"/>
    <parent link="camera_fixed_link"/>
    <child link="rgb_link"/>
  </joint>
  <link name="rgb_link"/>
  <joint name="camera_rgb_optical_joint" type="fixed">
    <origin rpy="-1.57079632679 0 -1.57079632679" xyz="0 0 0"/>
    <parent link="rgb_link"/>
    <child link="camera_rgb_optical_frame"/>
  </joint>
  <link name="camera_rgb_optical_frame"/>
  <joint name="camera_joint" type="fixed">
    <origin rpy="0 0 0" xyz="0 -0.022 0"/>
    <parent link="rgb_link"/>
    <child link="camera_link"/>
  </joint>
  <link name="camera_link">
    <visual>
      <origin rpy="0 0 0" xyz="-0.015 0.0035 0.004"/>
      <geometry>
        <mesh filename="package://turtlebot_description/meshes/sensors/xtion_pro_camera.dae"/>
      </geometry>
    </visual>
    <collision>
      <origin rpy="0 0 0" xyz="0.0 0.0 0.0"/>
      <geometry>
        <box size="0.0730 0.2760 0.0720"/>
      </geometry>
    </collision>
    <inertial>
      <mass value="0.170"/>
      <origin xyz="0 0 0"/>
      <inertia ixx="0.001152600" ixy="0.0" ixz="0.0" iyy="0.000148934" iyz="0.0" izz="0.001154654"/>
    </inertial>
  </link>
  <joint name="camera_depth_joint" type="fixed">
    <origin rpy="0 0 0" xyz="0 0.027 0"/>
    <parent link="rgb_link"/>
    <child link="depth_link"/>
  </joint>
  <link name="depth_link"/>
  <joint name="camera_depth_optical_joint" type="fixed">
    <origin rpy="-1.57079632679 0 -1.57079632679" xyz="0 0 0"/>
    <parent link="depth_link"/>
    <child link="camera_depth_optical_frame"/>
  </joint>
  <link name="camera_depth_optical_frame"/>
</robot>
